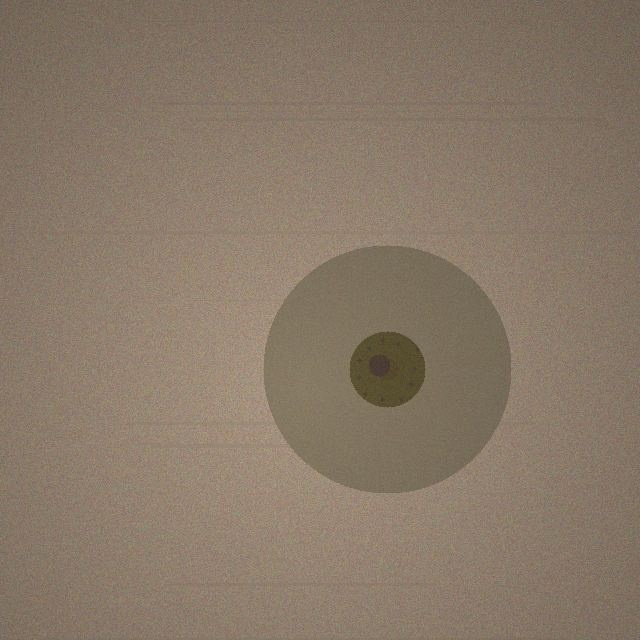cold_weld: (263, 245, 511, 493)
